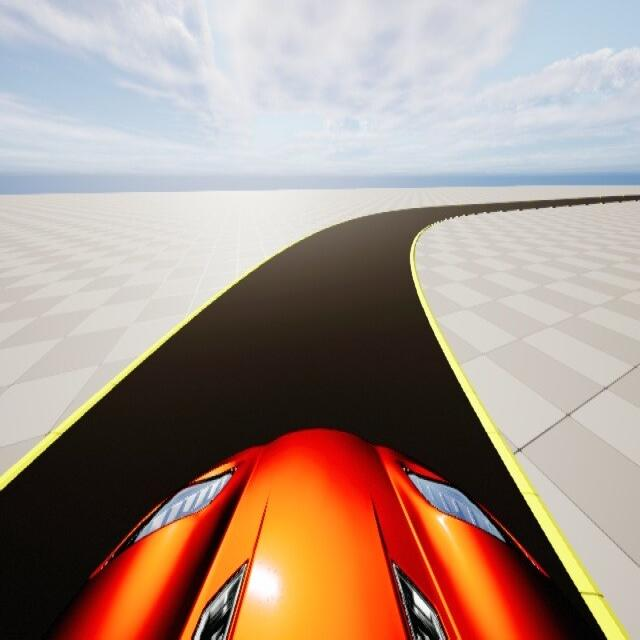lane: (0, 195, 602, 639)
